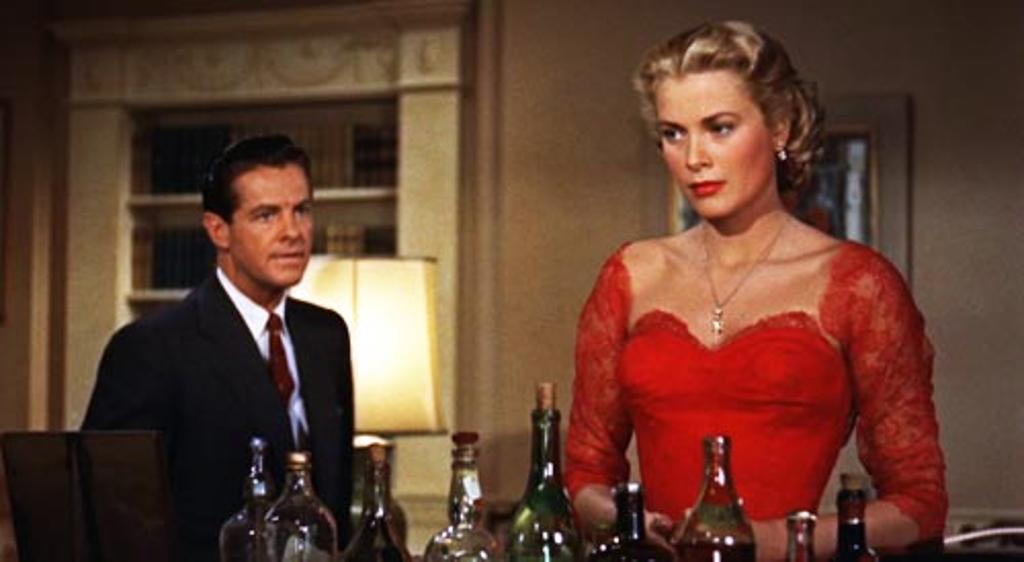face: (660, 68, 772, 216), (242, 166, 316, 286)
